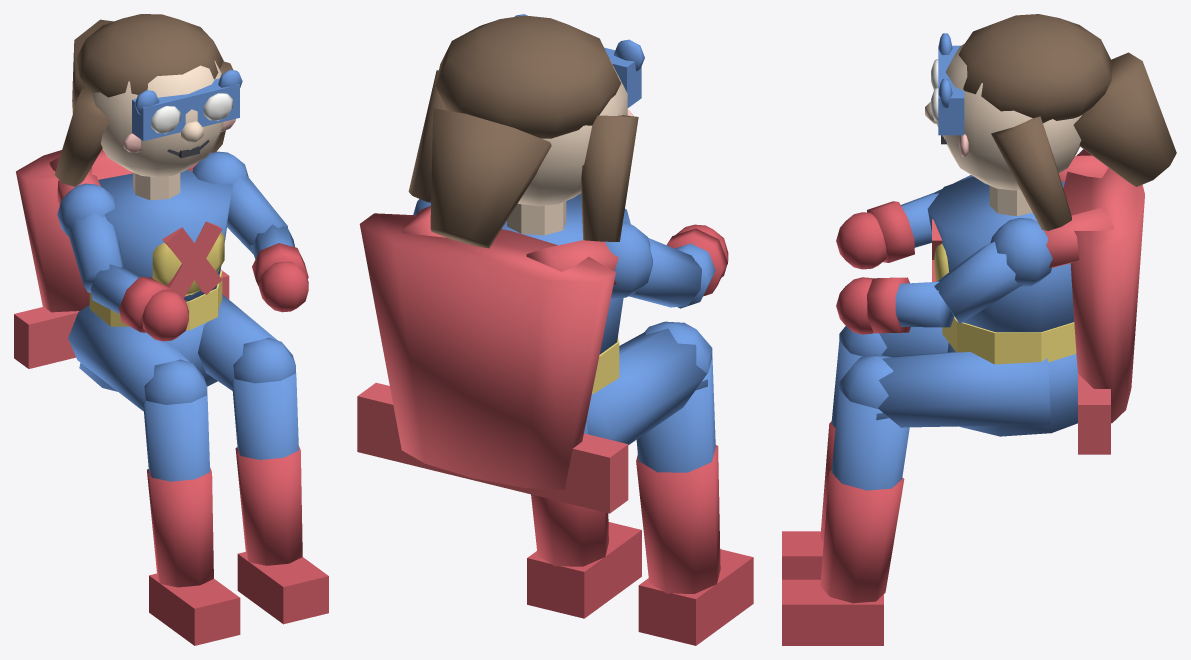
Rendered from meeple_20_superheldin.glb.
3 renders of one model, left to right at view 1: azimuth 30°, elevation 25°; view 2: azimuth 150°, elevation 25°; view 3: azimuth 270°, elevation 25°, orthographic. The views are drawn at different scales.
Visible parts, largest first — view 1: meeple_20_superheldin; view 2: meeple_20_superheldin; view 3: meeple_20_superheldin.
Part boxes in pixels (x1,y1,x2,y2): meeple_20_superheldin: (14,14,328,645); meeple_20_superheldin: (357,14,753,645); meeple_20_superheldin: (782,14,1176,645).
Size of the model in its own units: 0.5278 by 1.3 by 0.7941.
